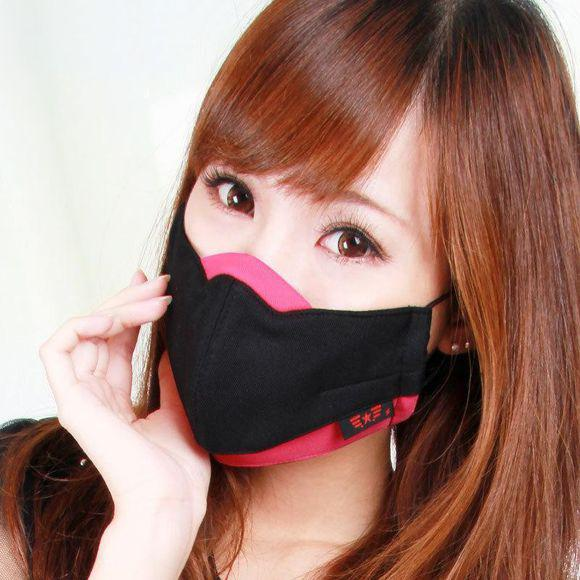OK: (171, 107, 432, 463)
